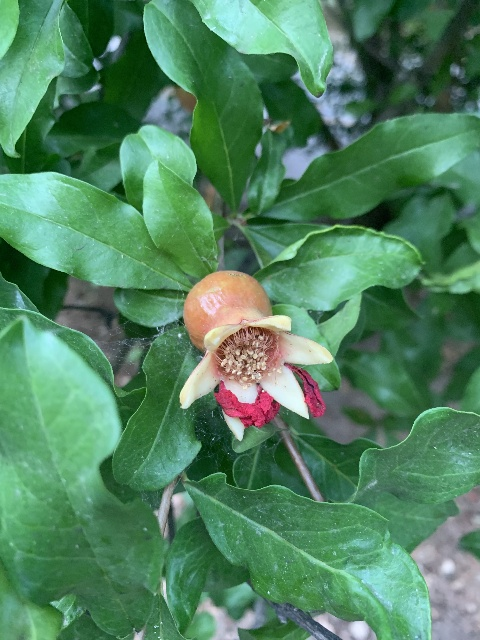early-fruit: (178, 270, 333, 429)
